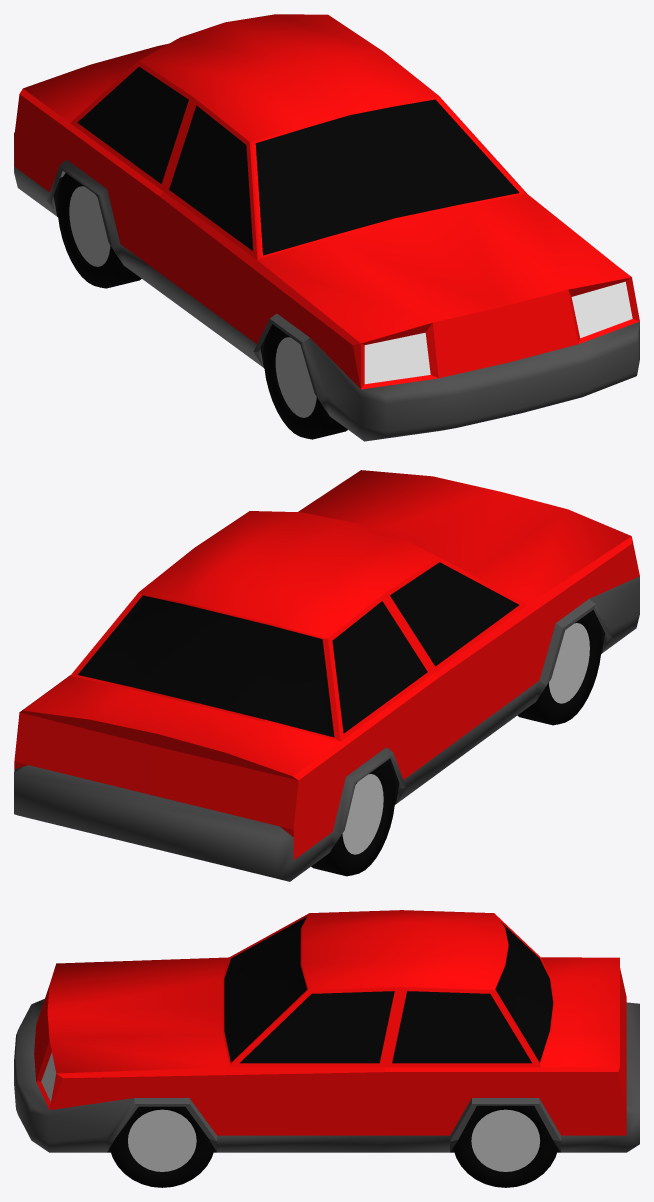
File: carro2.gltf
3 renders of one model, top to bottom at view 1: azimuth 30°, elevation 25°; view 2: azimuth 150°, elevation 25°; view 3: azimuth 270°, elevation 25°, orthographic. The views are drawn at different scales.
Parts seen in each view (by area): view 1: Car; view 2: Car; view 3: Car.
Part boxes in pixels (left/top/right/bottom): Car: left=14, top=14, right=639, bottom=441; Car: left=14, top=470, right=639, bottom=881; Car: left=14, top=910, right=639, bottom=1187.
Size of the model in its own units: 2.1 by 1.59 by 4.66.
